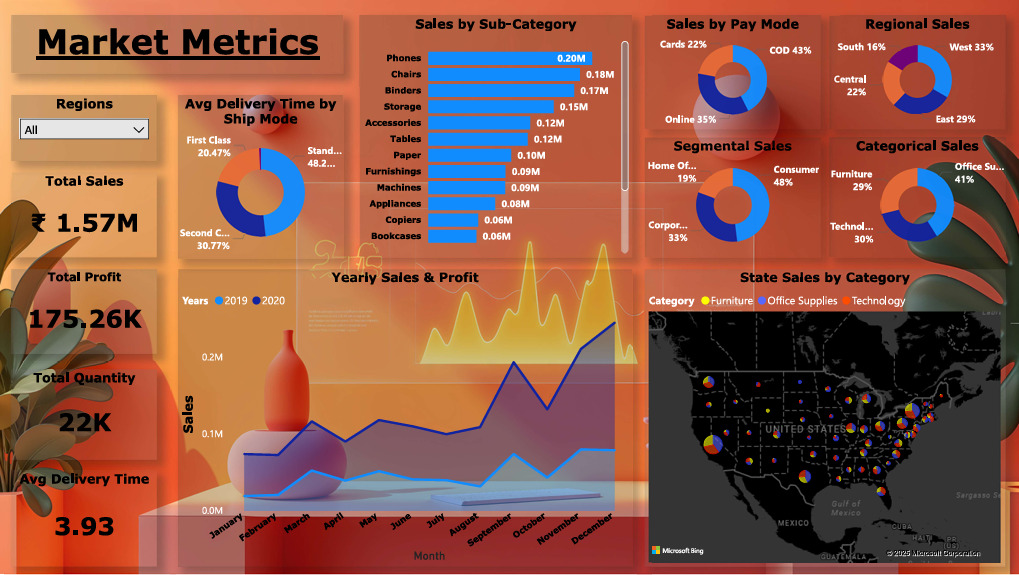

What the dashboard file says about the page in this screenshot:
{"tool":"powerbi","page":{"name":"Page 1","canvas":[1280,720],"ordinal":0},"visuals":[{"type":"card","title":"Total Sales","fields":{"Values":["Sum(SuperStore_Sales_Dataset (2).Sales)"]},"box":[14.9,216.4,182.1,106],"z":0},{"type":"card","title":"Total Profit","fields":{"Values":["Sum(SuperStore_Sales_Dataset (2).Profit)"]},"box":[14.9,337.3,182.1,106],"z":1000},{"type":"card","title":"Total Quantity","fields":{"Values":["Sum(SuperStore_Sales_Dataset (2).Quantity)"]},"box":[14.9,462.7,182.1,113.4],"z":2000},{"type":"textbox","box":[14.9,19.4,416.4,71.6],"z":3000},{"type":"donutChart","title":"Regional Sales","fields":{"Category":["SuperStore_Sales_Dataset (2).Region"],"Y":["Sum(SuperStore_Sales_Dataset (2).Sales)"]},"box":[1041.8,19.4,220.9,141.8],"z":4000},{"type":"slicer","title":"Regions","fields":{"Values":["SuperStore_Sales_Dataset (2).Region"]},"box":[14.9,119.4,182.1,82.1],"z":5000},{"type":"map","title":"State Sales by Category","fields":{"Size":["Sum(SuperStore_Sales_Dataset (2).Sales)"],"Category":["SuperStore_Sales_Dataset (2).State"],"Series":["SuperStore_Sales_Dataset (2).Category"]},"box":[810.4,337.3,452.2,373.1],"z":6000},{"type":"stackedAreaChart","title":"Yearly Sales & Profit","fields":{"Category":["SuperStore_Sales_Dataset (2).Order Date.Variation.Date Hierarchy.Month"],"Y":["Sum(SuperStore_Sales_Dataset (2).Sales)"],"Series":["SuperStore_Sales_Dataset (2).Order Date.Variation.Date Hierarchy.Year"]},"box":[223.9,337.3,570.1,373.1],"z":7000},{"type":"donutChart","title":"Segmental Sales","fields":{"Y":["Sum(SuperStore_Sales_Dataset (2).Sales)"],"Category":["SuperStore_Sales_Dataset (2).Segment"]},"box":[810.4,171.6,220.9,150.7],"z":8000},{"type":"donutChart","title":"Sales by Pay Mode","fields":{"Category":["SuperStore_Sales_Dataset (2).Payment Mode"],"Y":["Sum(SuperStore_Sales_Dataset (2).Sales)"]},"box":[810.4,19.4,220.9,141.8],"z":9000},{"type":"card","title":"Avg Delivery Time","fields":{"Values":["Avg(SuperStore_Sales_Dataset (2).Delivery Time)"]},"box":[14.9,589.6,182.1,120.9],"z":10000},{"type":"donutChart","title":"Categorical Sales","fields":{"Category":["SuperStore_Sales_Dataset (2).Category"],"Y":["Sum(SuperStore_Sales_Dataset (2).Sales)"]},"box":[1041.8,171.6,220.9,150.7],"z":11000},{"type":"barChart","title":"Sales by Sub-Category","fields":{"Y":["Sum(SuperStore_Sales_Dataset (2).Sales)"],"Category":["SuperStore_Sales_Dataset (2).Sub-Category"]},"box":[452.2,19.4,341.8,303],"z":12000},{"type":"pieChart","title":"Avg Delivery Time by Ship Mode","fields":{"Category":["SuperStore_Sales_Dataset (2).Ship Mode"],"Y":["Avg(SuperStore_Sales_Dataset (2).Delivery Time)"]},"box":[223.9,119.4,207.5,204.5],"z":13000}]}

Visuals, with their boxes in screenshot pixels (x1, y1, x2, y2), scaled from the page's 1280x720 canvas onto the 1019x575 screenshot:
"Total Sales" card: 12 173 157 257
"Total Profit" card: 12 269 157 354
"Total Quantity" card: 12 370 157 460
textbox: 12 15 343 73
"Regional Sales" donutChart: 829 15 1005 129
"Regions" slicer: 12 95 157 161
"State Sales by Category" map: 645 269 1005 567
"Yearly Sales & Profit" stackedAreaChart: 178 269 632 567
"Segmental Sales" donutChart: 645 137 821 257
"Sales by Pay Mode" donutChart: 645 15 821 129
"Avg Delivery Time" card: 12 471 157 567
"Categorical Sales" donutChart: 829 137 1005 257
"Sales by Sub-Category" barChart: 360 15 632 257
"Avg Delivery Time by Ship Mode" pieChart: 178 95 343 259
